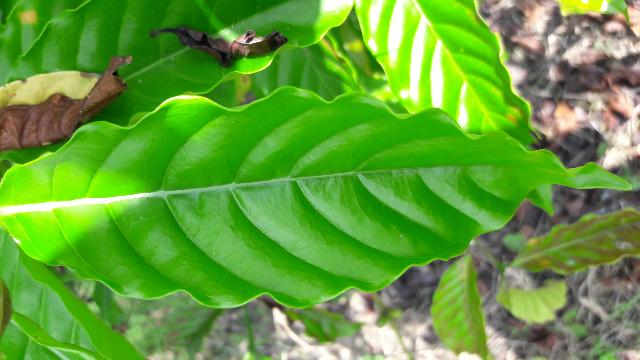healthy: (0, 87, 631, 309)
